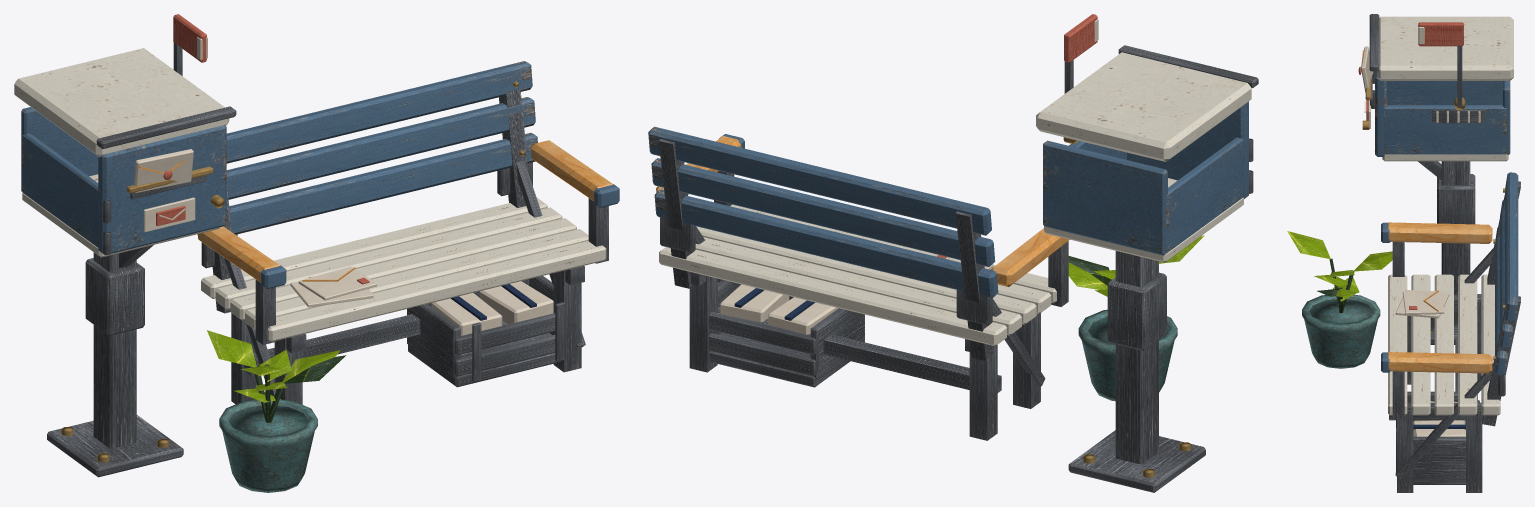
Rendered from prior-mailbox_bench-02.glb.
3 views of the same model, side by side, from view 1: azimuth 30°, elevation 25°; view 2: azimuth 150°, elevation 25°; view 3: azimuth 270°, elevation 25° (orthographic). The views are drawn at different scales.
Visible parts, largest first — view 1: mailbox_bench; view 2: mailbox_bench; view 3: mailbox_bench.
Part boxes in pixels (x1,y1,x2,y2): mailbox_bench: (14,14,619,492); mailbox_bench: (648,14,1258,492); mailbox_bench: (1287,14,1520,492).
Size of the model in its own units: 2.53 by 1.91 by 1.22.
3 materials, 3 textured.
